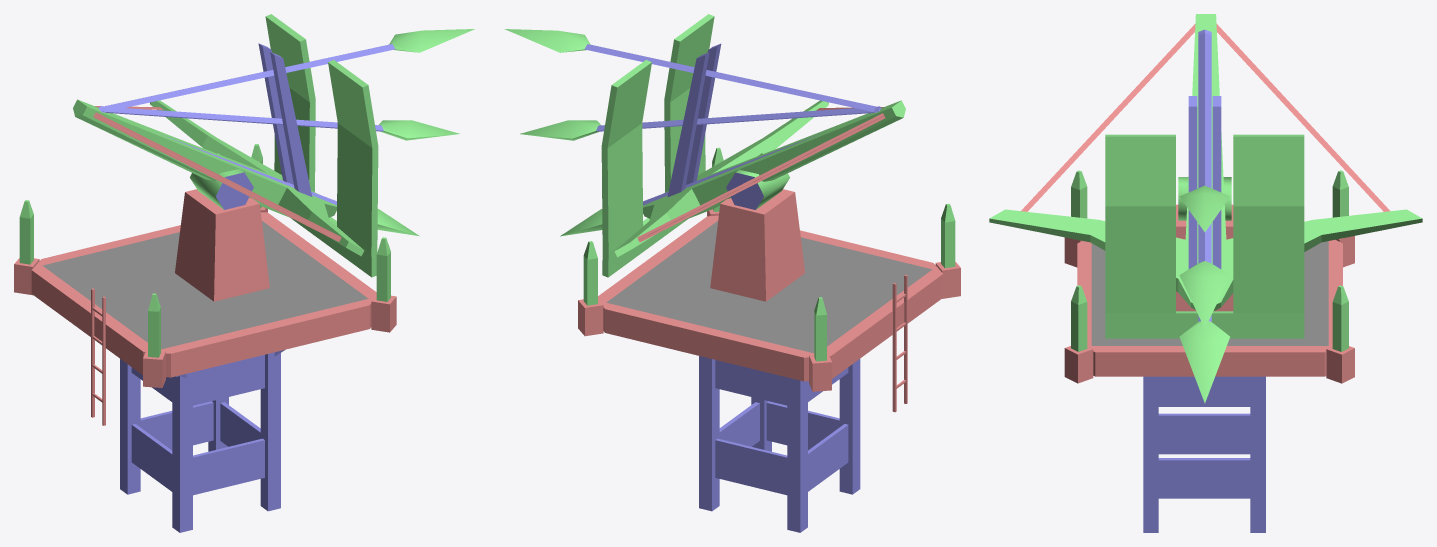
Rendered from L2fortress_02_s__Fort02_tower_arrow.gltf.
3 views of the same model, side by side, from view 1: azimuth 30°, elevation 25°; view 2: azimuth 150°, elevation 25°; view 3: azimuth 270°, elevation 25° (orthographic). The views are drawn at different scales.
Visible parts, largest first — view 1: Fort02_tower_arrow; view 2: Fort02_tower_arrow; view 3: Fort02_tower_arrow.
Boxes of the visible parts, x1,y1,x2,y2 form: Fort02_tower_arrow: (14, 14, 474, 532); Fort02_tower_arrow: (504, 14, 960, 532); Fort02_tower_arrow: (989, 14, 1422, 532).
Size of the model in its own units: 2.63 by 2.72 by 2.4.
